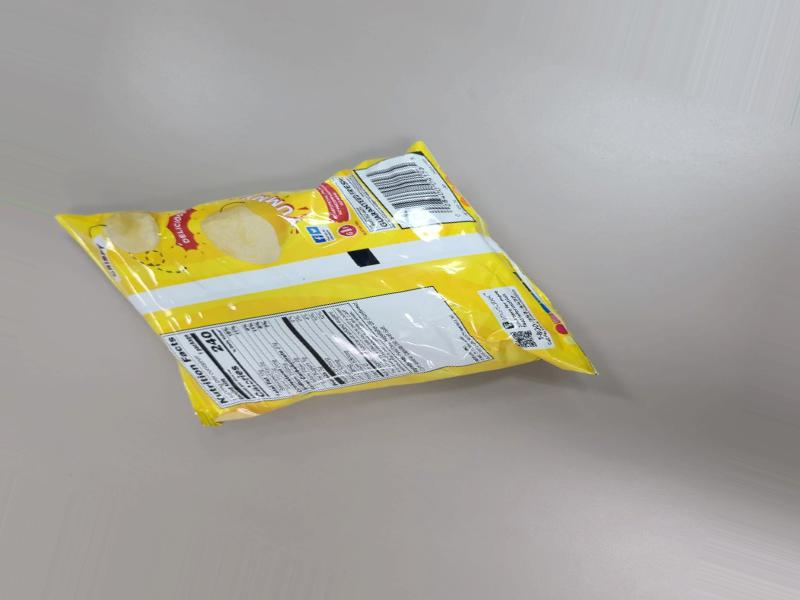lays: (137, 132, 577, 432)
